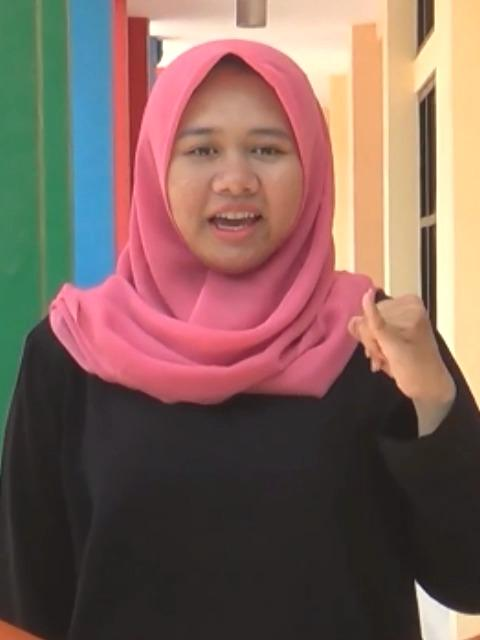J: (354, 288, 450, 424)
